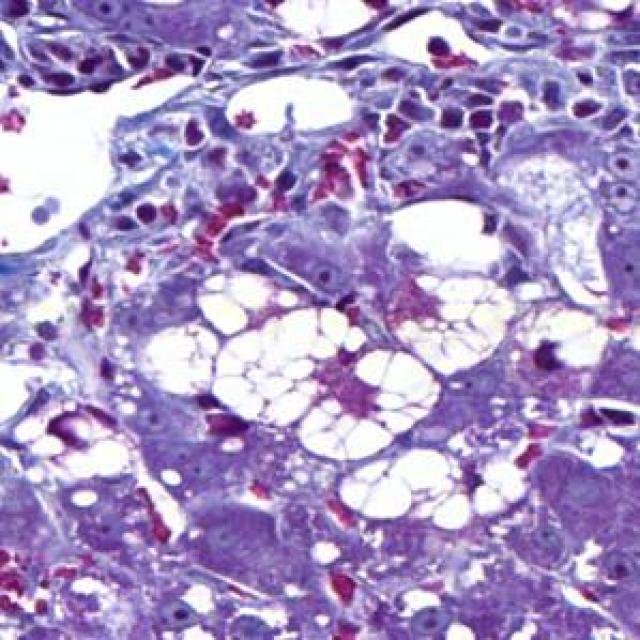ballooning: (137, 263, 368, 437), (293, 336, 441, 471), (338, 443, 533, 542)
